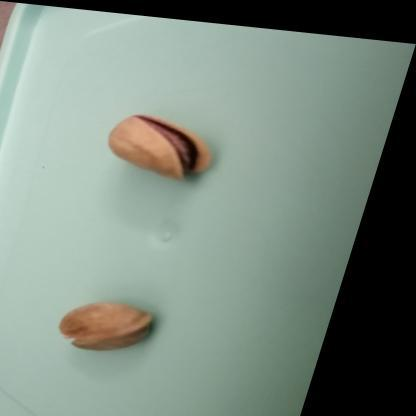pistachio: (108, 112, 219, 191), (55, 295, 164, 356)
